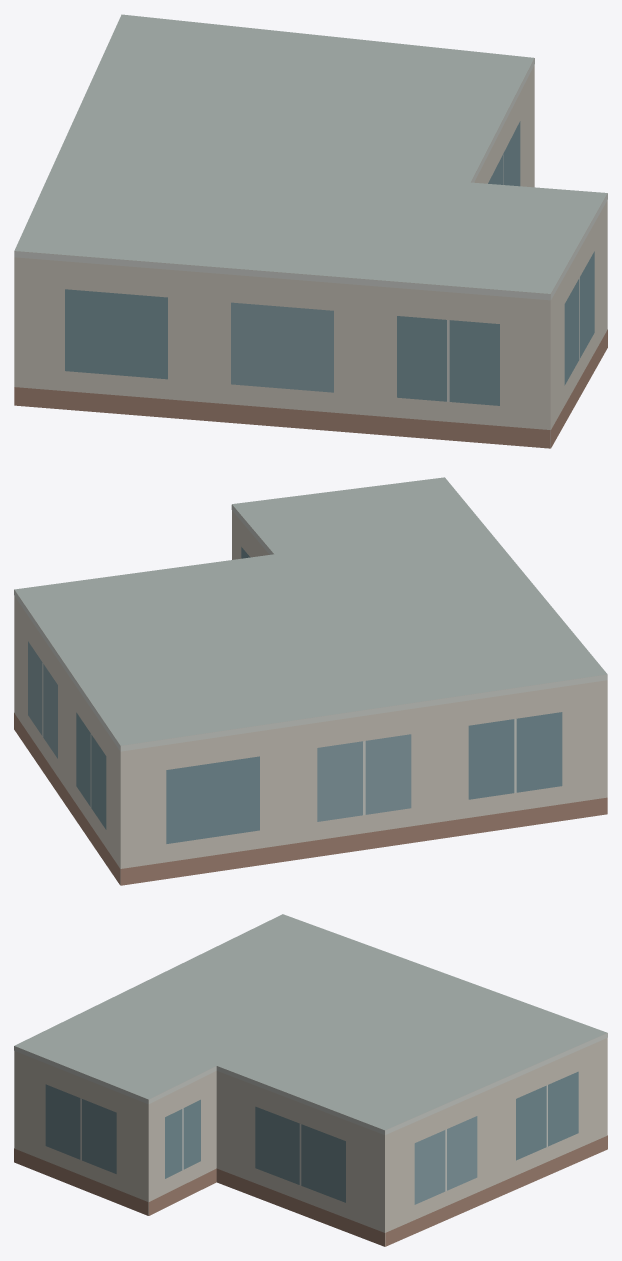
The model's file is survey-upis-32752921.glb.
3 views of the same model, one above another, from view 1: azimuth 30°, elevation 25°; view 2: azimuth 150°, elevation 25°; view 3: azimuth 270°, elevation 25° (orthographic). The views are drawn at different scales.
Visible parts, largest first — view 1: survey-upis-32752921.tmp; view 2: survey-upis-32752921.tmp; view 3: survey-upis-32752921.tmp.
Part boxes in pixels (<box>): survey-upis-32752921.tmp: <box>14,14,607,448</box>; survey-upis-32752921.tmp: <box>14,477,607,885</box>; survey-upis-32752921.tmp: <box>14,914,607,1246</box>.
Size of the model in its own units: 12.16 by 3.05 by 14.1.
